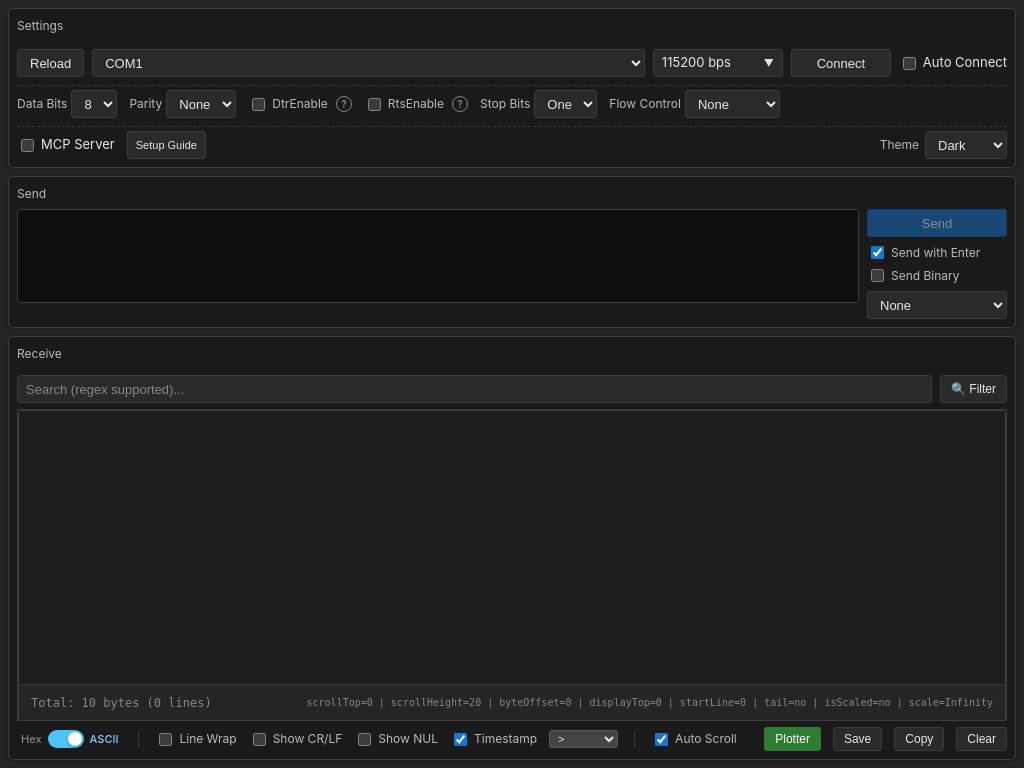
Test: App › shows new data that arrives before the Clear reply even at the previous byte count
Click the button "Clear". click: x=982, y=739
box: [956, 727, 1007, 751]
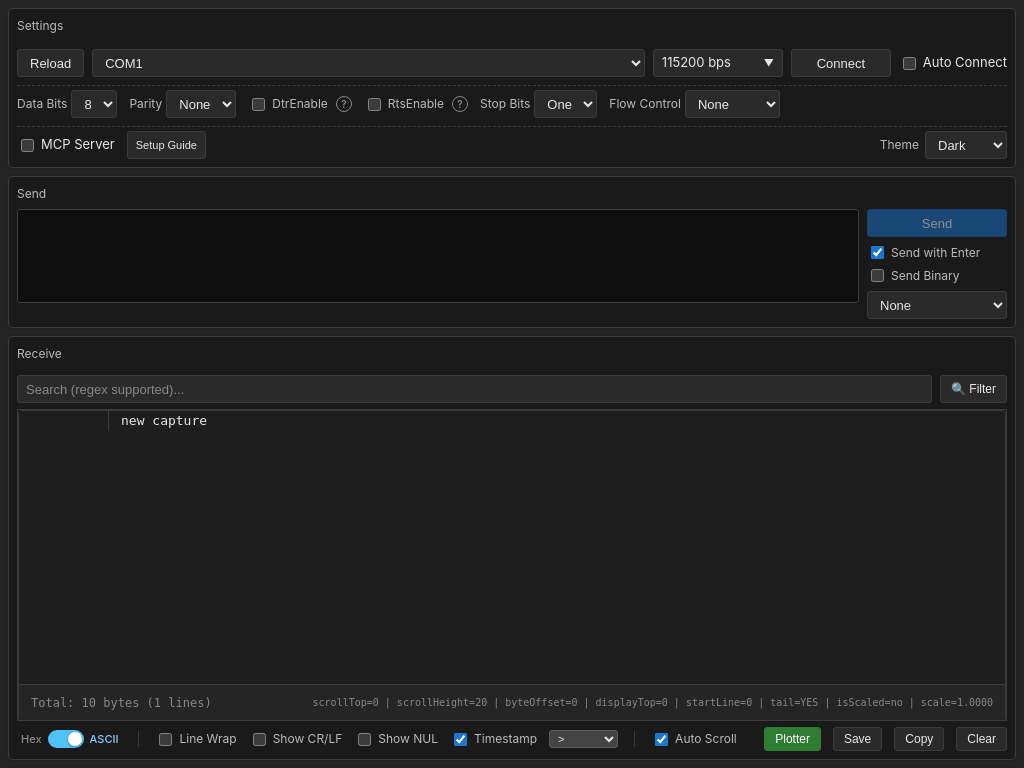
Expected: the text "Total: 10 bytes (1 lines)" is shown, [31, 693, 212, 713]
Result: the text "new capture" is shown at [121, 413, 207, 428]
